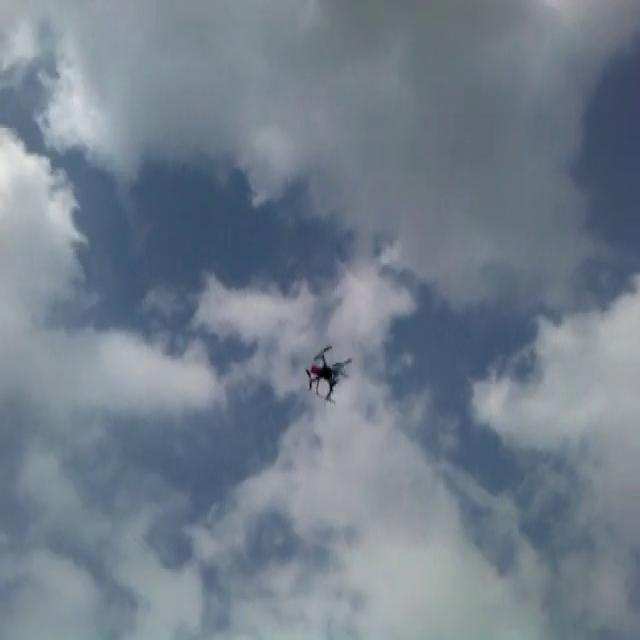drone: (302, 342, 353, 406)
